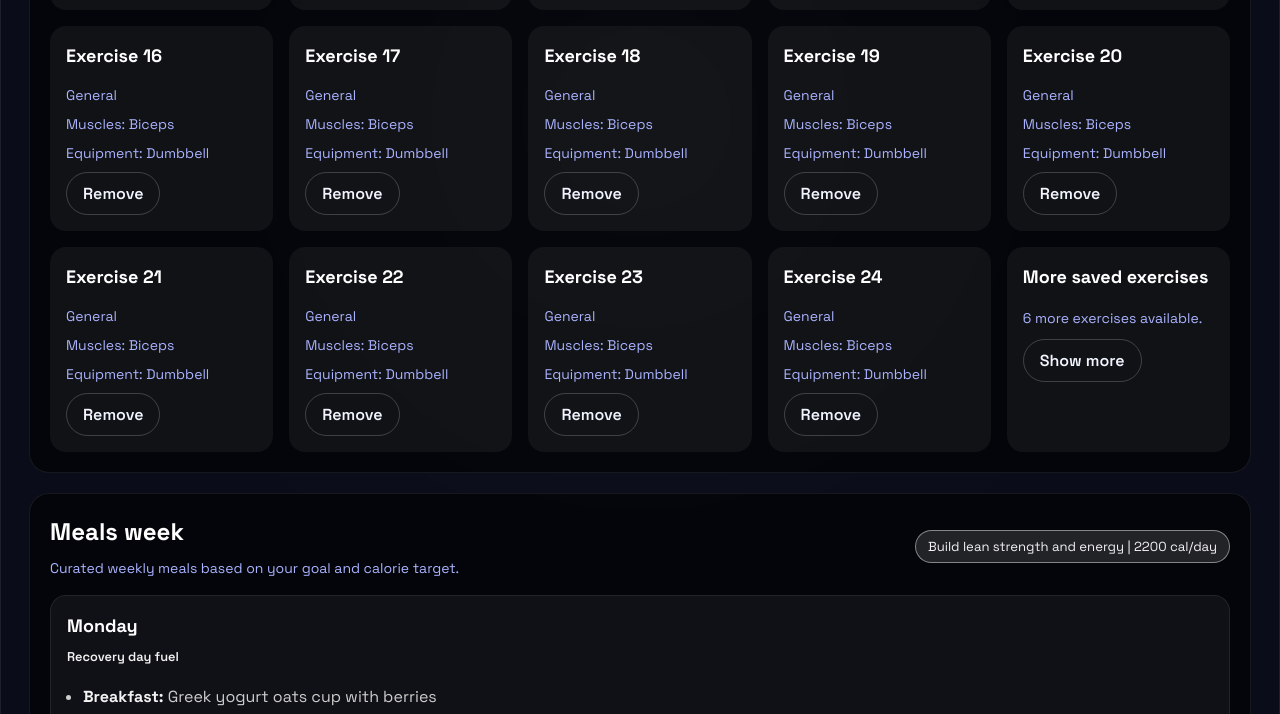
it: PlansView › saved exercise paging › showing more reveals the next page
This screenshot has width=1280, height=714.
(page scrolled)
Expected: the text "Exercise 25" is not shown
Click the button "Show more". click: click(1082, 360)
box: [1023, 339, 1142, 382]
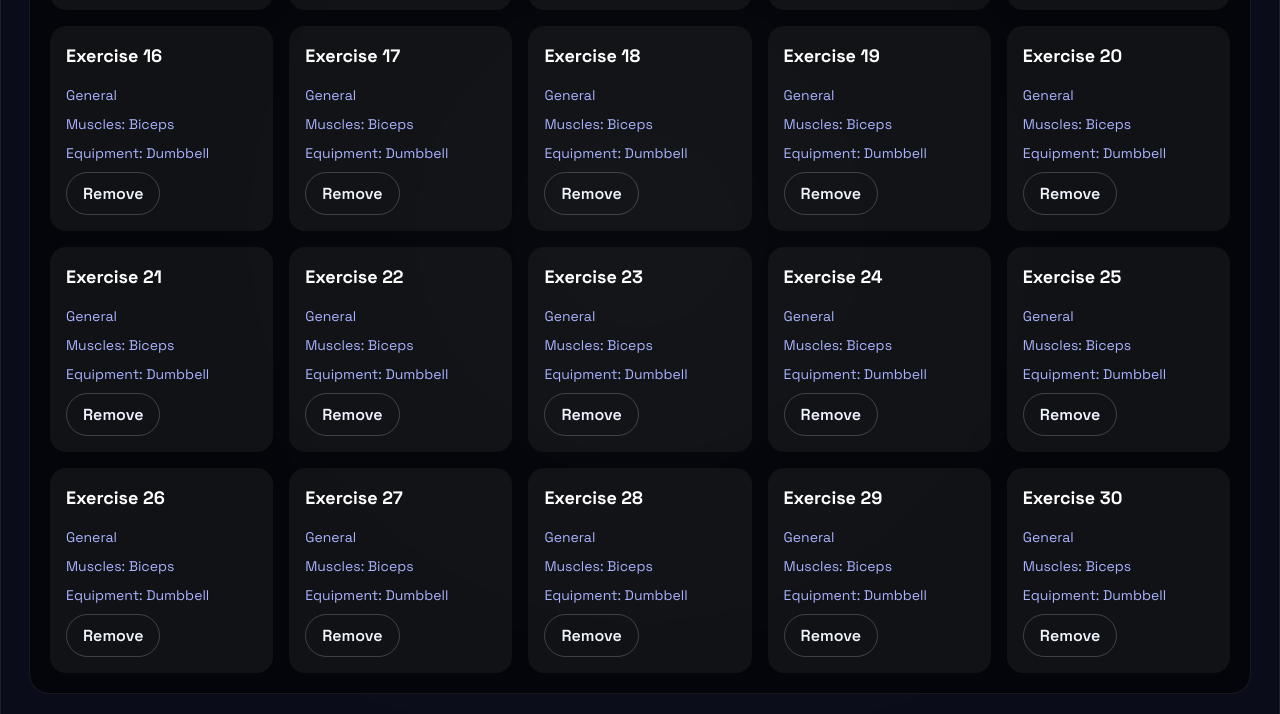
Expected: the heading "Exercise 25" is shown, [1023, 265, 1121, 288]
Expected: the text "more exercise" is gone
